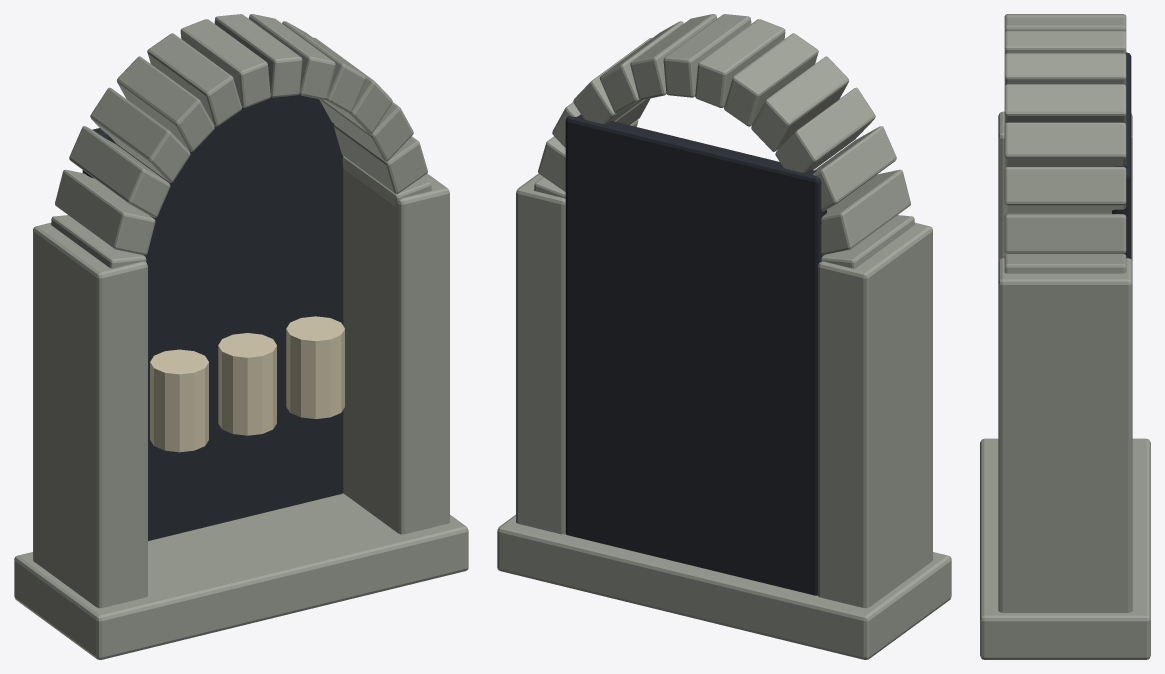
File: d4_niche.glb
3 views of the same model, side by side, from view 1: azimuth 30°, elevation 25°; view 2: azimuth 150°, elevation 25°; view 3: azimuth 270°, elevation 25° (orthographic).
Parts seen in each view (by area): view 1: Body.013; view 2: Body.013; view 3: Body.013.
Part boxes in pixels (x1,y1,x2,y2): Body.013: [14, 14, 468, 659]; Body.013: [497, 14, 951, 659]; Body.013: [980, 14, 1150, 659].
Bounding box in the file's own units: 1.75 × 2.46 × 0.7.
